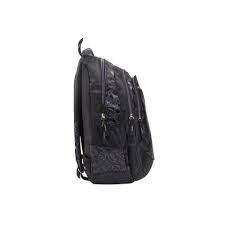backpack: (72, 37, 154, 184)
